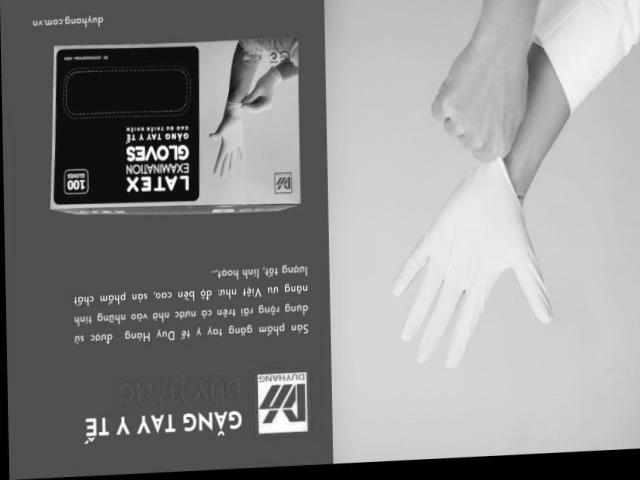gloved: (393, 210, 556, 368)
not-gloved: (431, 48, 532, 156)
